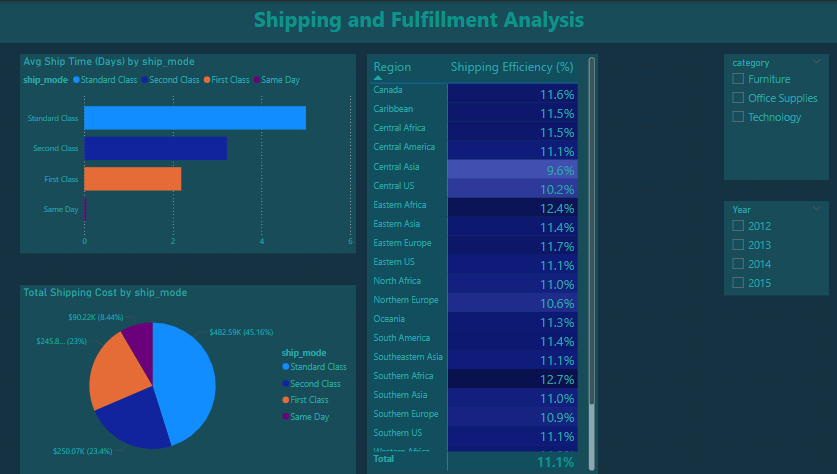

This screenshot's page, from the dashboard's own definition file:
{"tool":"powerbi","page":{"name":"Shipping and Fulfillment","canvas":[1280,720],"ordinal":5},"visuals":[{"type":"barChart","title":"Avg Ship Time (Days) by ship_mode ","fields":{"Category":["Dim_Order.ship_mode"],"Y":["Sales_Fact.Avg Ship Time"],"Series":["Dim_Order.ship_mode"]},"box":[32,80,512,304],"z":0},{"type":"pieChart","fields":{"Category":["Dim_Order.ship_mode"],"Y":["Sales_Fact.Total Shipping Cost"]},"box":[32,432,512,288],"z":1000},{"type":"pivotTable","fields":{"Rows":["Dim_Geography.region"],"Values":["Sales_Fact.Shipping Efficiency"]},"box":[560,80,352,640],"z":2000},{"type":"slicer","fields":{"Values":["Dim_Product.category"]},"box":[1104,80,160,192],"z":3000},{"type":"slicer","fields":{"Values":["Calendar.Year"]},"box":[1104,304,160,144],"z":4000},{"type":"textbox","box":[0,0,1280,64],"z":4001}]}

Visuals, with their boxes in screenshot pixels (x1, y1, x2, y2), scaled from the page's 1280x720 canvas onto the 837x474 screenshot:
"Avg Ship Time (Days) by ship_mode " barChart: <region>21, 53, 356, 253</region>
pieChart - Dim_Order.ship_mode x Sales_Fact.Total Shipping Cost: <region>21, 284, 356, 473</region>
pivotTable - Dim_Geography.region x Sales_Fact.Shipping Efficiency: <region>366, 53, 596, 473</region>
slicer - Dim_Product.category: <region>722, 53, 827, 179</region>
slicer - Calendar.Year: <region>722, 200, 827, 295</region>
textbox: <region>0, 0, 836, 42</region>
